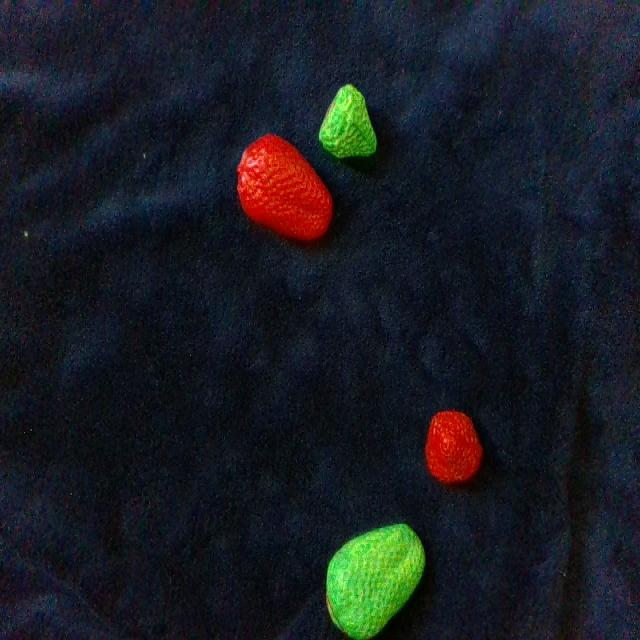chica_roja: (425, 411, 482, 483)
grande_roja: (237, 135, 330, 239)
verde: (326, 524, 424, 639), (319, 84, 376, 156)
